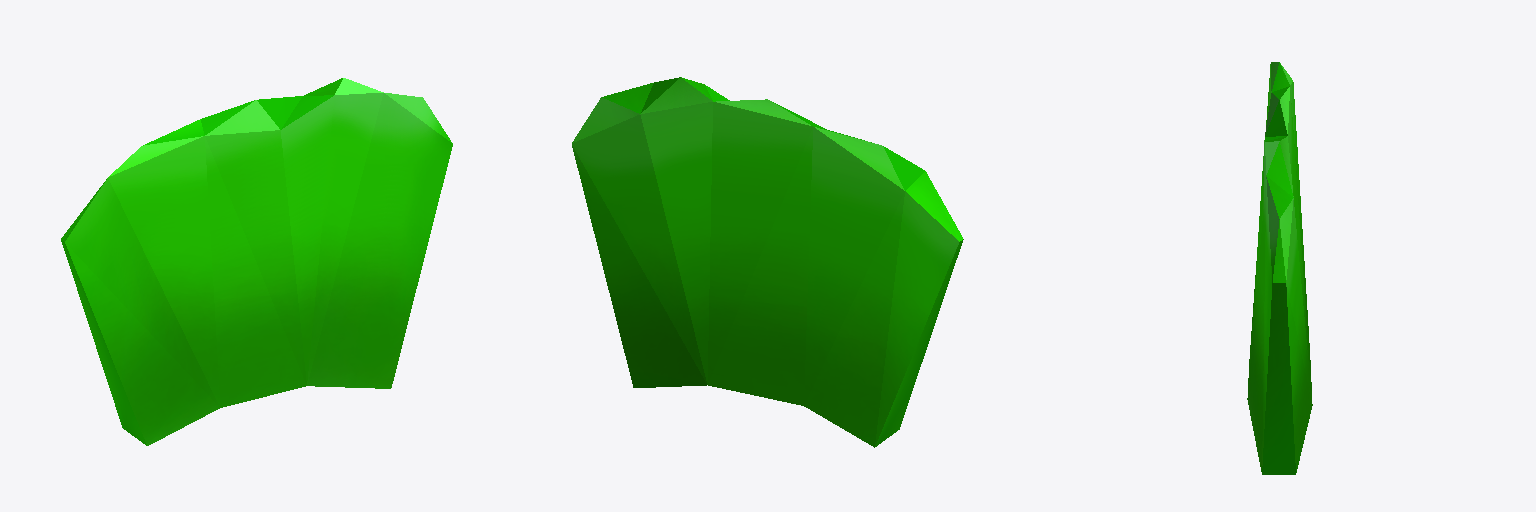
The picture shows the model from 3 angles: view 1: azimuth 30°, elevation 25°; view 2: azimuth 150°, elevation 25°; view 3: azimuth 270°, elevation 25°; orthographic projection.
Parts seen in each view (by area): view 1: Cube; view 2: Cube; view 3: Cube.
Boxes of the visible parts, x1=… form: Cube: x1=61, y1=78, x2=452, y2=445; Cube: x1=572, y1=77, x2=963, y2=447; Cube: x1=1247, y1=62, x2=1312, y2=474.
Size of the model in its own units: 11.52 by 8.95 by 1.68.
Materials: 1 (1 with a texture image).